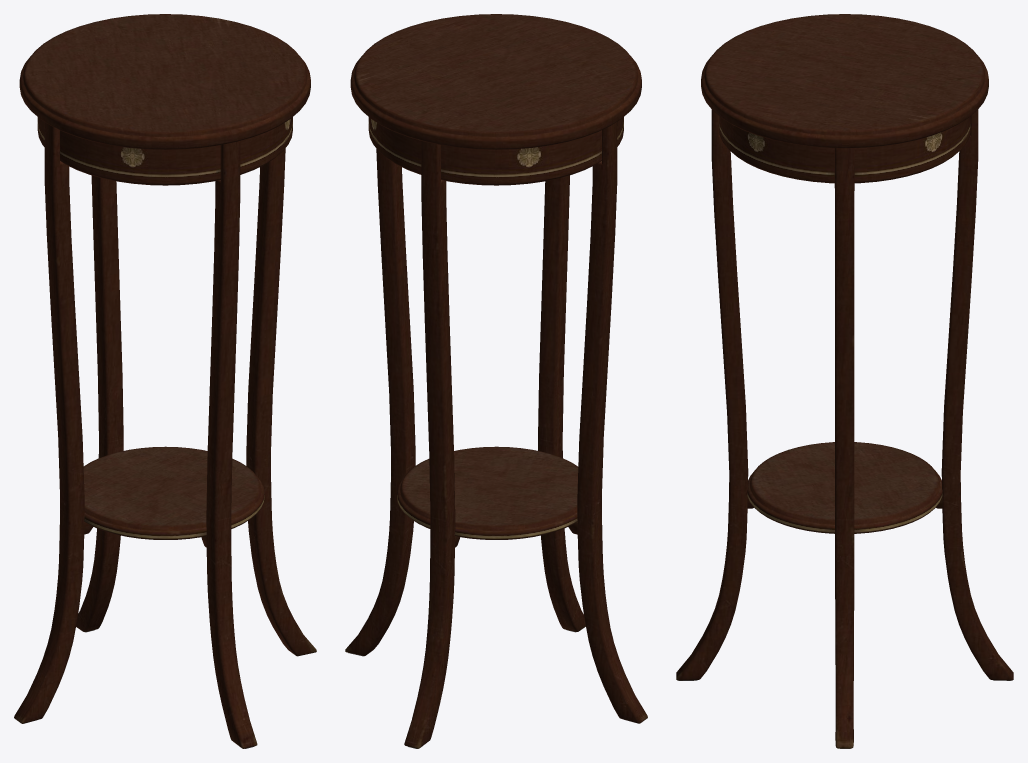
Rendered from side_table_tall_01_1k.gltf.
3 views of the same model, side by side, from view 1: azimuth 30°, elevation 25°; view 2: azimuth 150°, elevation 25°; view 3: azimuth 270°, elevation 25° (orthographic).
Visible parts, largest first — view 1: side_table_tall_01; view 2: side_table_tall_01; view 3: side_table_tall_01.
Boxes of the visible parts, bbox=[...] form: side_table_tall_01: bbox=[14, 14, 316, 748]; side_table_tall_01: bbox=[345, 14, 647, 748]; side_table_tall_01: bbox=[676, 14, 1013, 748].
Size of the model in its own units: 0.384 by 0.7612 by 0.384.
Materials: 1 (1 with a texture image).
